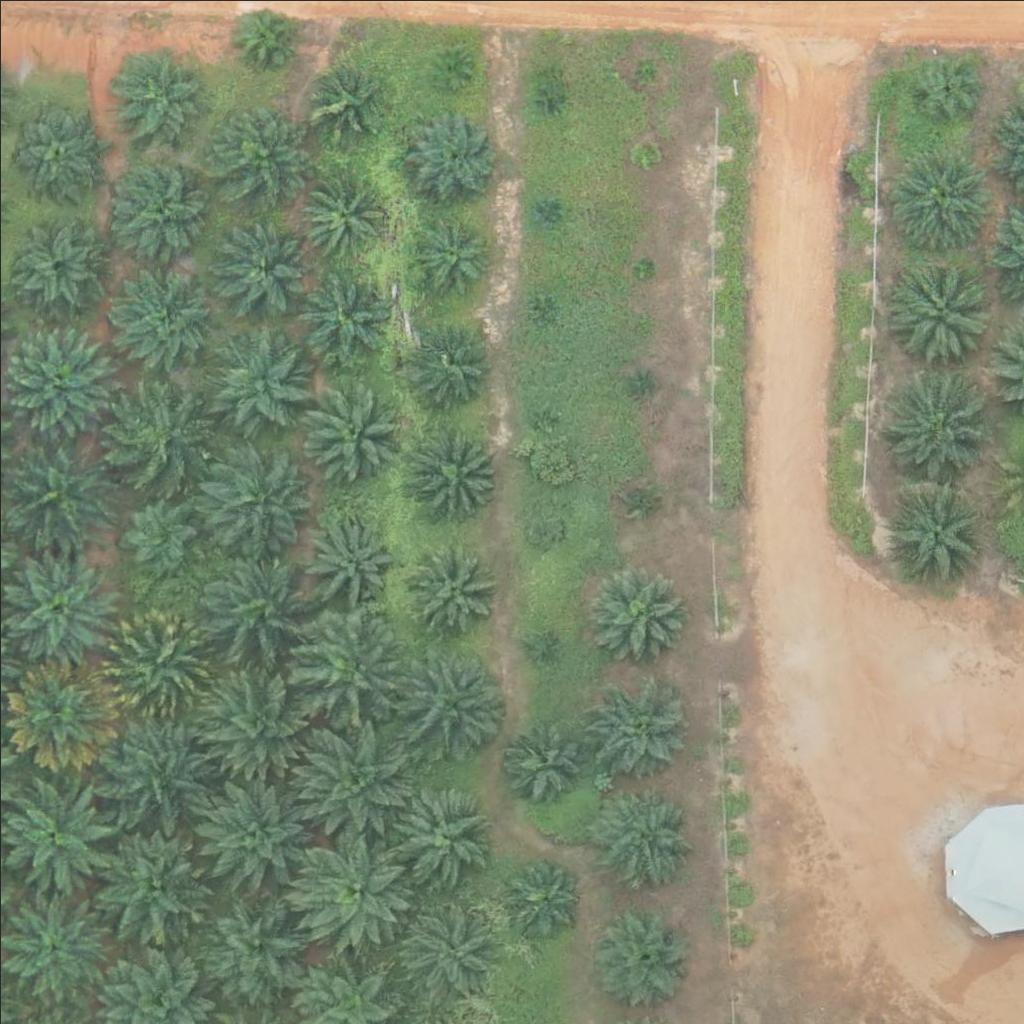Kelapa_Sawit: (2, 315, 115, 429), (395, 646, 508, 760), (195, 888, 308, 1001), (92, 834, 205, 947), (93, 716, 206, 829), (4, 655, 117, 768), (102, 606, 215, 719), (2, 554, 115, 667), (5, 436, 118, 549), (296, 718, 408, 832), (202, 548, 314, 662), (198, 445, 310, 559), (293, 612, 405, 726), (297, 829, 409, 942), (194, 777, 306, 890), (205, 662, 317, 775), (396, 98, 508, 211), (877, 369, 989, 482), (595, 787, 695, 888), (211, 329, 311, 430), (302, 380, 402, 481), (294, 268, 394, 369), (587, 676, 687, 777), (589, 568, 689, 669), (207, 101, 307, 202), (113, 156, 213, 257), (108, 46, 208, 147), (887, 481, 987, 582), (590, 907, 690, 1007), (392, 895, 492, 995), (390, 782, 490, 882), (106, 386, 206, 486), (113, 265, 213, 365), (2, 98, 102, 198), (892, 262, 992, 362), (887, 148, 987, 248), (402, 211, 490, 300), (17, 218, 105, 306), (405, 320, 493, 408), (296, 168, 384, 256), (217, 216, 304, 304), (305, 515, 392, 603), (405, 548, 492, 636), (412, 426, 499, 514), (499, 719, 586, 807), (906, 50, 981, 126), (504, 859, 579, 935), (122, 499, 197, 575), (302, 63, 377, 138), (235, 2, 298, 65), (523, 506, 561, 544), (430, 51, 468, 89), (523, 634, 548, 659), (527, 404, 552, 429), (533, 288, 558, 313), (627, 484, 652, 509), (627, 371, 652, 396), (631, 253, 656, 278), (635, 141, 660, 166), (632, 57, 657, 82), (532, 199, 557, 224), (539, 89, 564, 114)
